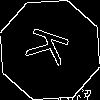K: (25, 25, 79, 72)
